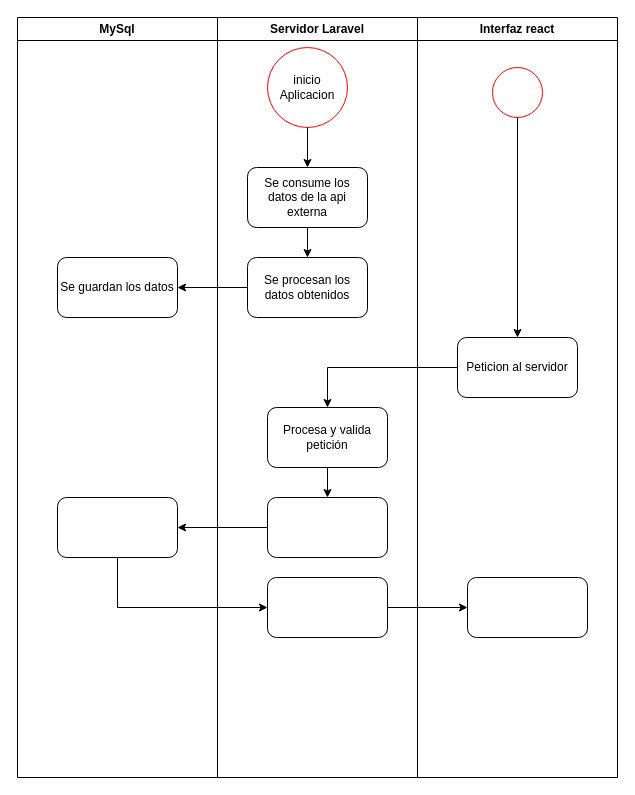
Image size: 635x795. Some labels were removed from this diagram. The shapes that lost their labels are listed below. From the top down, each one's centre as x and y in pixels, then its label:
At (517,92): "Nuevo usuario".
At (117,527): "Se actualizan los datos".
At (327,527): "Se recuperan datos o se actualizan según la petición".
At (327,607): "Se procesan y envian datos al front".
At (527,607): "Se muestran los datos".
